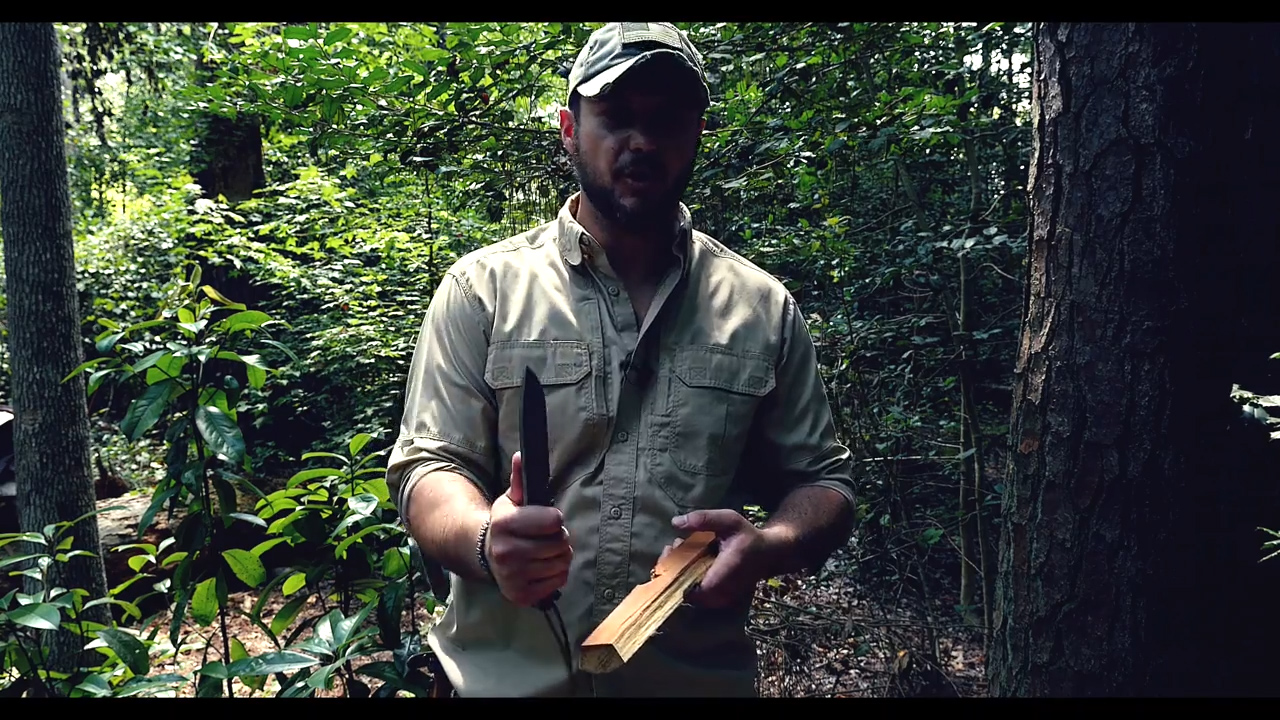knife: (497, 359, 578, 582)
